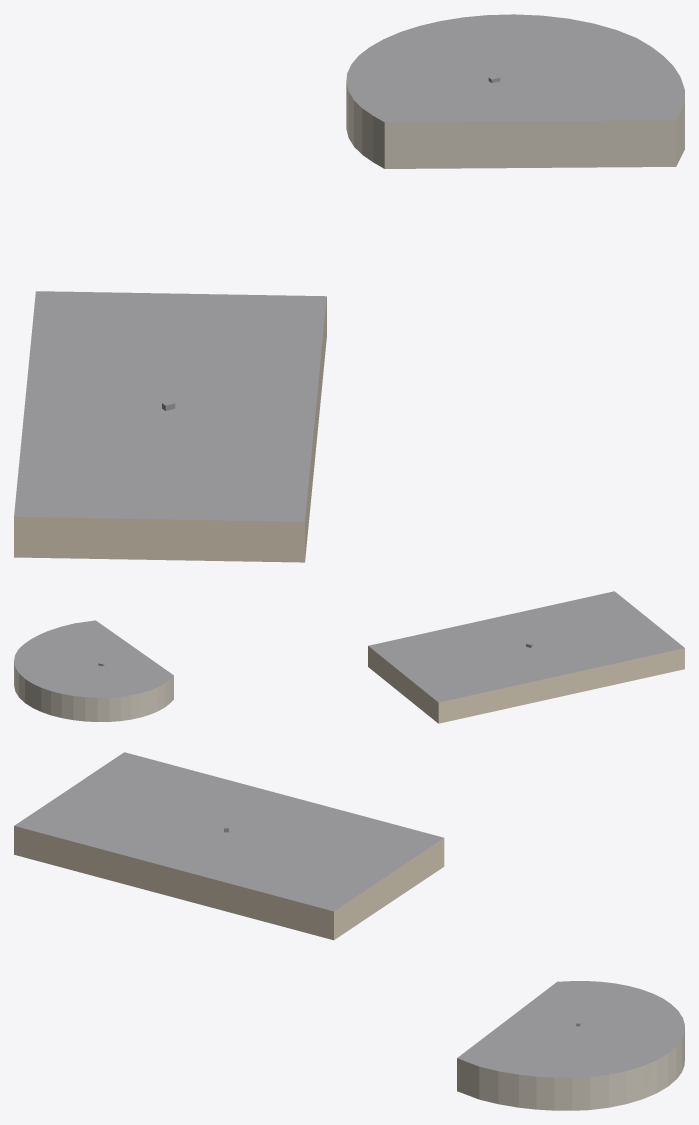
The model's file is building_1_1.glb.
The picture shows the model from 3 angles, top to bottom: view 1: azimuth 30°, elevation 25°; view 2: azimuth 150°, elevation 25°; view 3: azimuth 270°, elevation 25°; orthographic projection. The views are drawn at different scales.
Parts seen in each view (by area): view 1: roof, concrete_warm, sandstone; view 2: roof, sandstone, concrete_warm; view 3: roof, sandstone, concrete_warm.
Part boxes in pixels (x1,y1,x2,y2): roof: (14, 14, 684, 521); concrete_warm: (346, 83, 684, 168); sandstone: (14, 297, 326, 562); roof: (14, 591, 684, 702); sandstone: (368, 646, 684, 723); concrete_warm: (14, 662, 173, 721); roof: (14, 752, 684, 1077); sandstone: (14, 826, 444, 940); concrete_warm: (457, 1029, 684, 1110).
Size of the model in its own units: 249 by 12.51 by 214.
